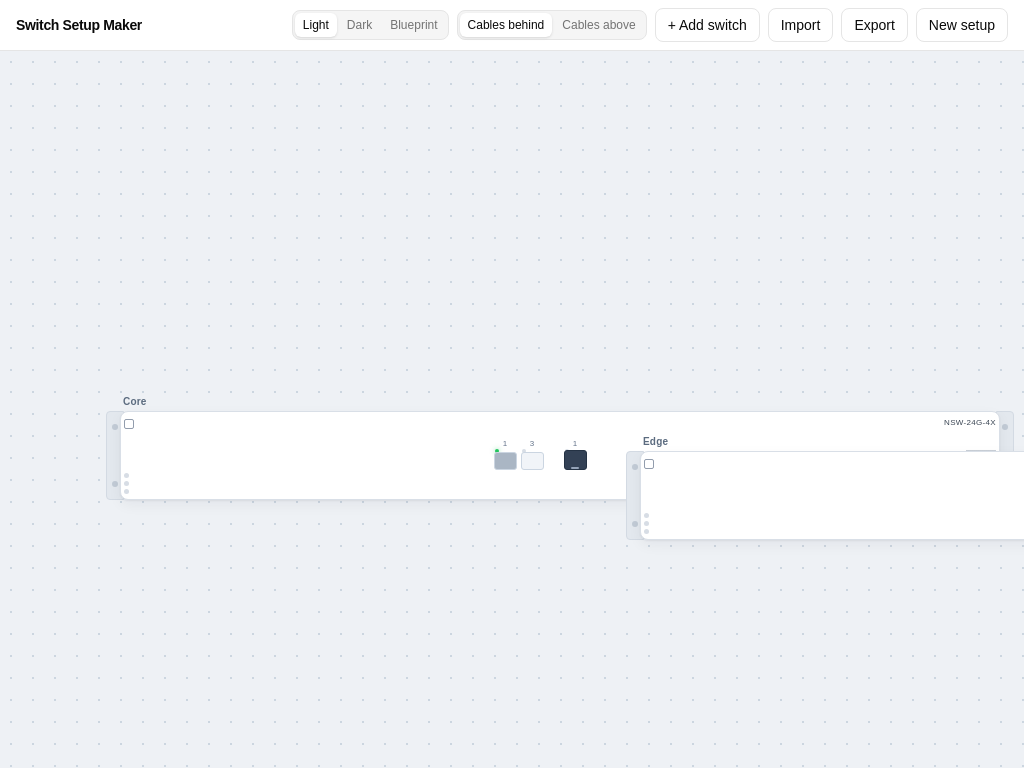
switch layout editor › removes an unconnected section immediately and never lets the last section go
This screenshot has width=1024, height=768.
Click the element "Core" at (560, 456), box [120,411,1000,500]
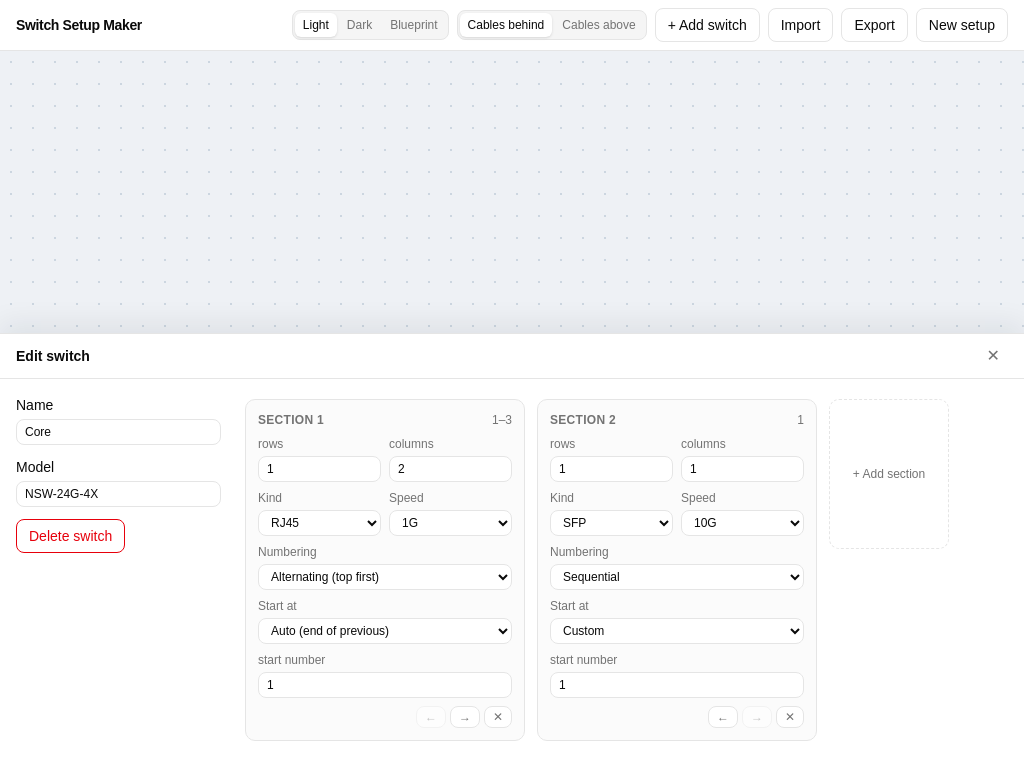
Click the button named "Remove section 2" at (790, 717), box [776,706,804,728]
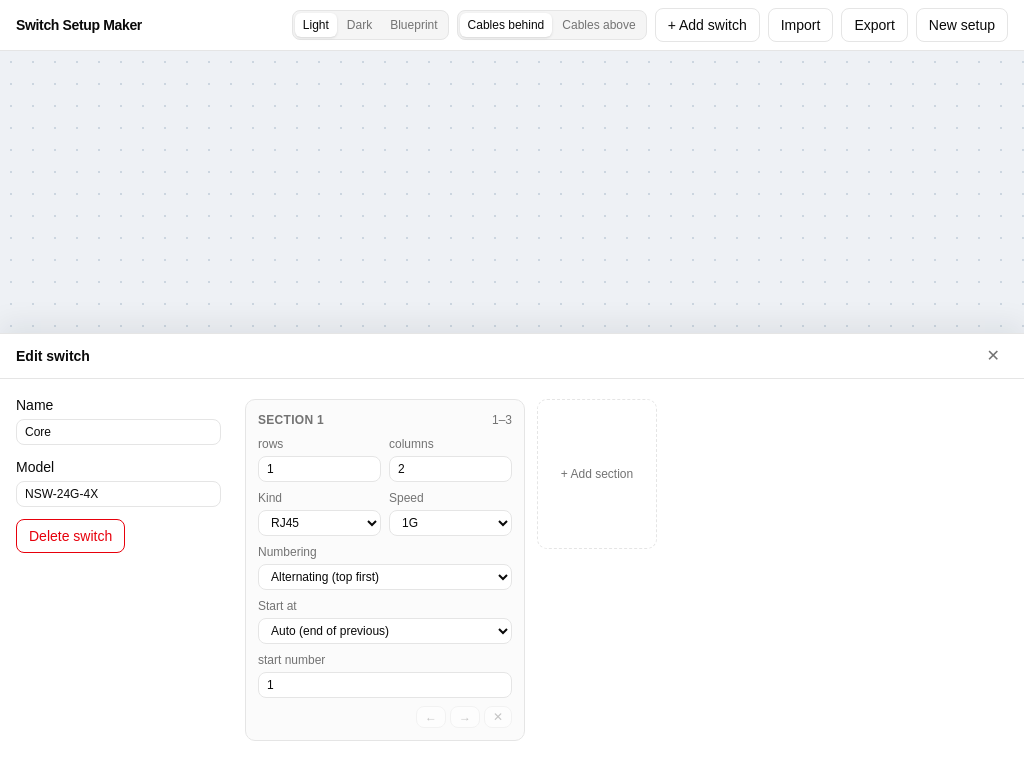
Expected: the button named "Remove section 1" is disabled, [484,706,512,728]
